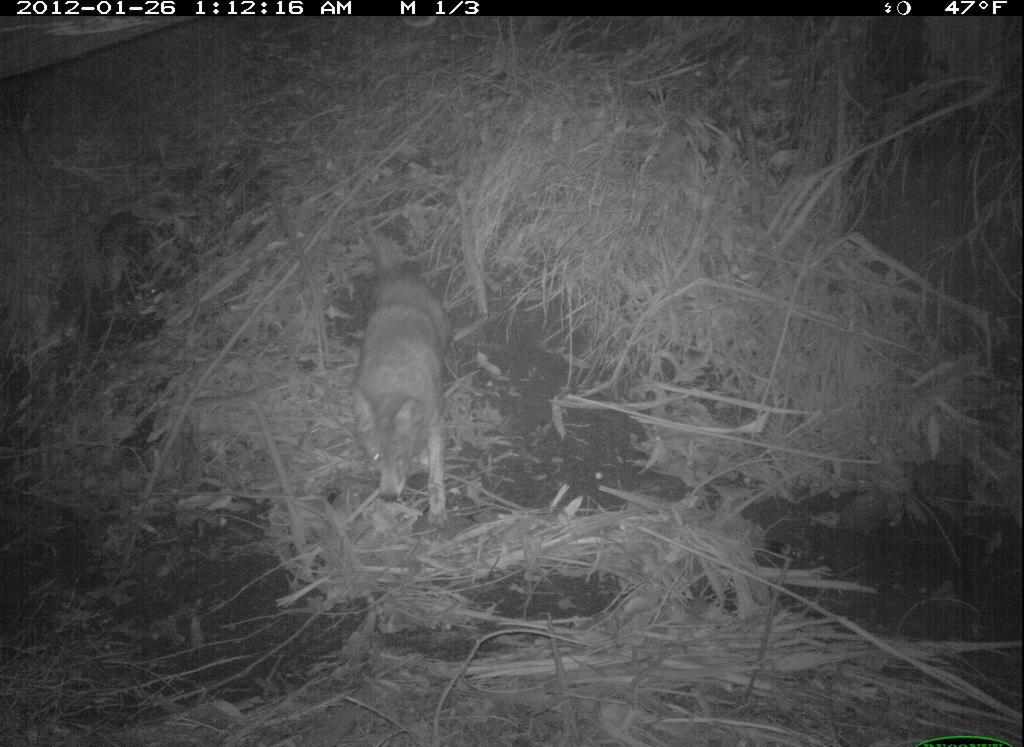coyote: (342, 246, 468, 530)
